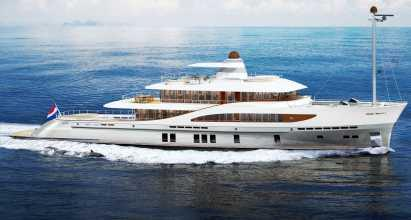yacht: (8, 53, 408, 151)
